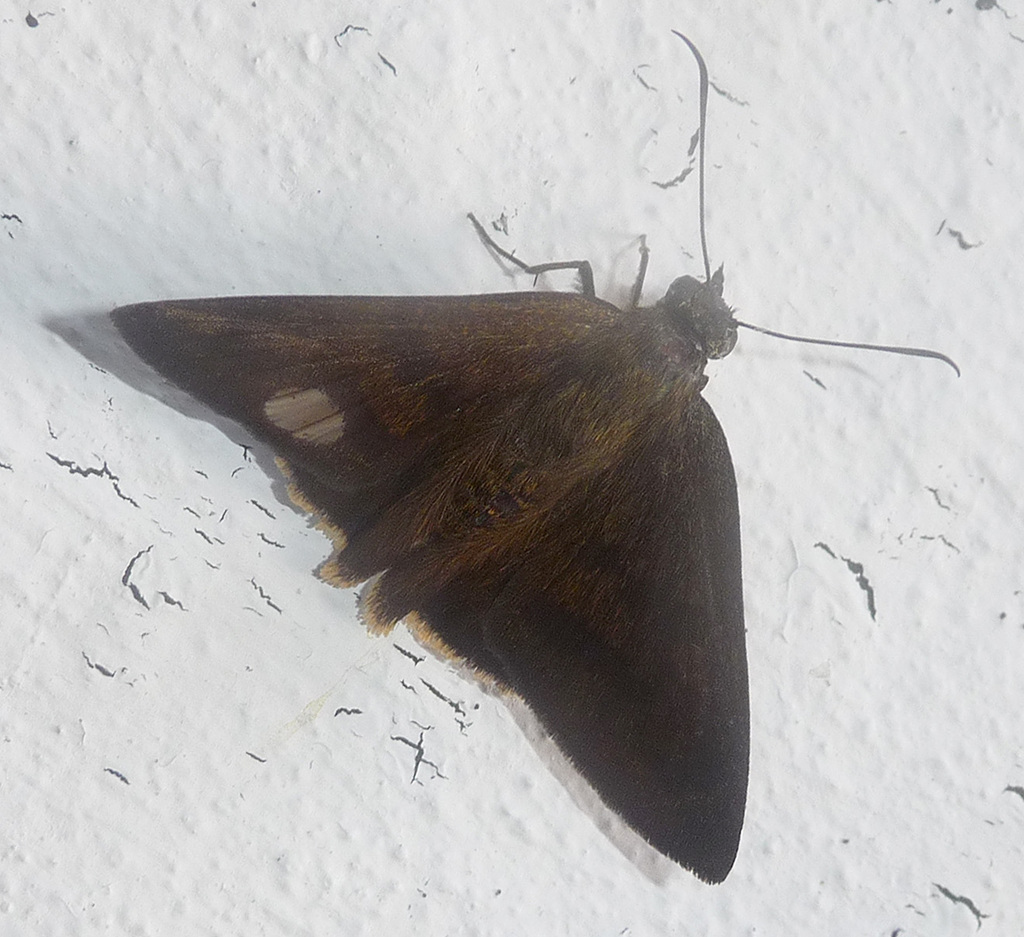Butterfly: (112, 213, 739, 890)
